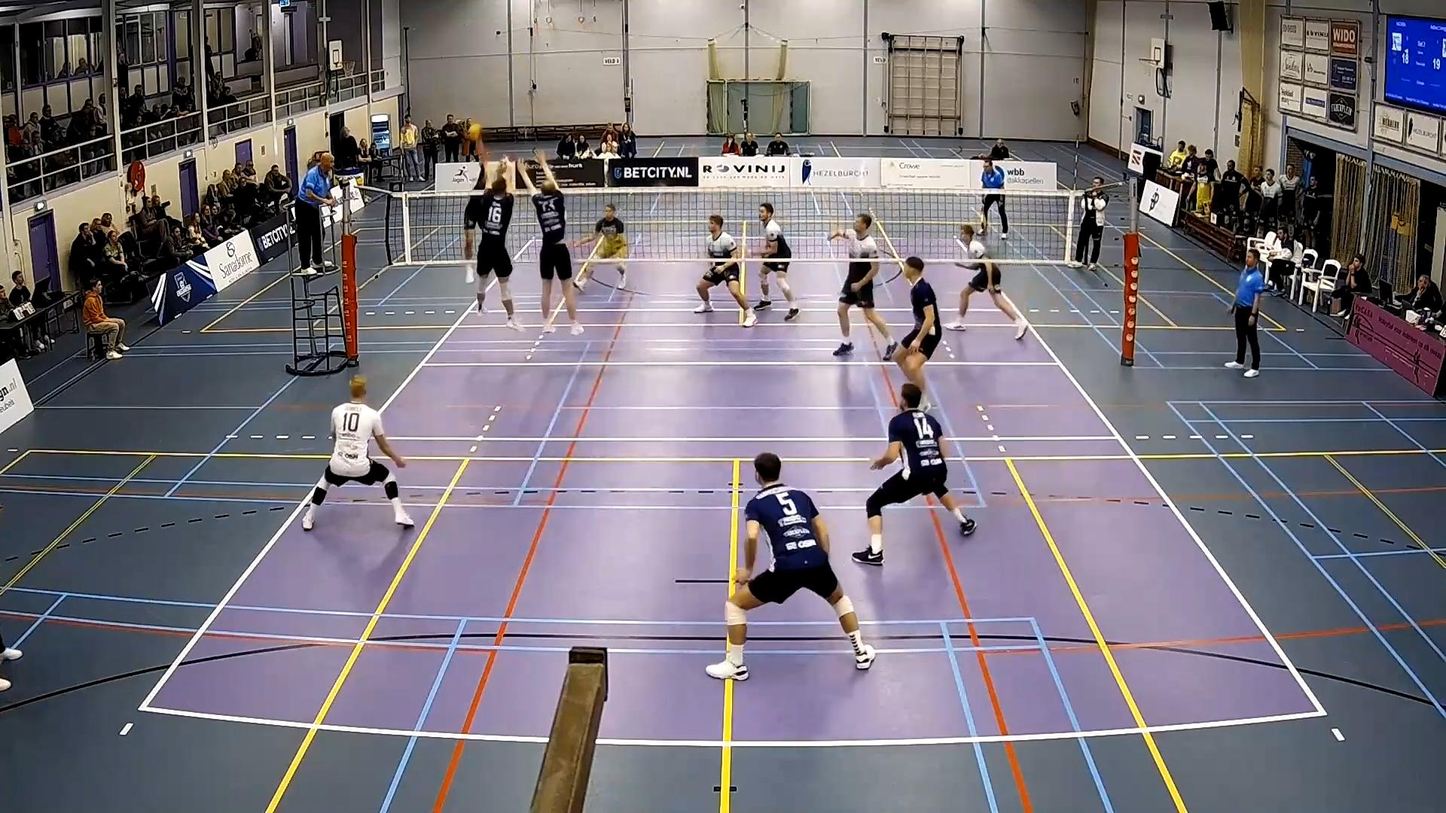attacco: (453, 132, 509, 280)
muro: (464, 151, 525, 330), (519, 151, 577, 334)
